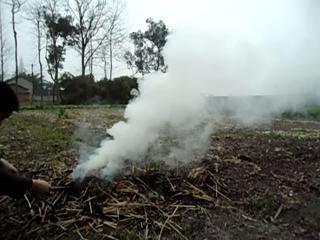yanwu: (72, 30, 297, 174)
